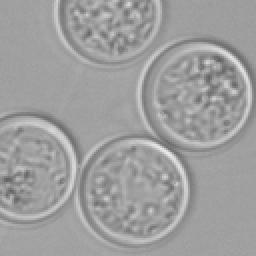picoshell: (136, 40, 252, 154), (74, 134, 190, 248), (0, 112, 78, 224), (54, 0, 162, 68)
